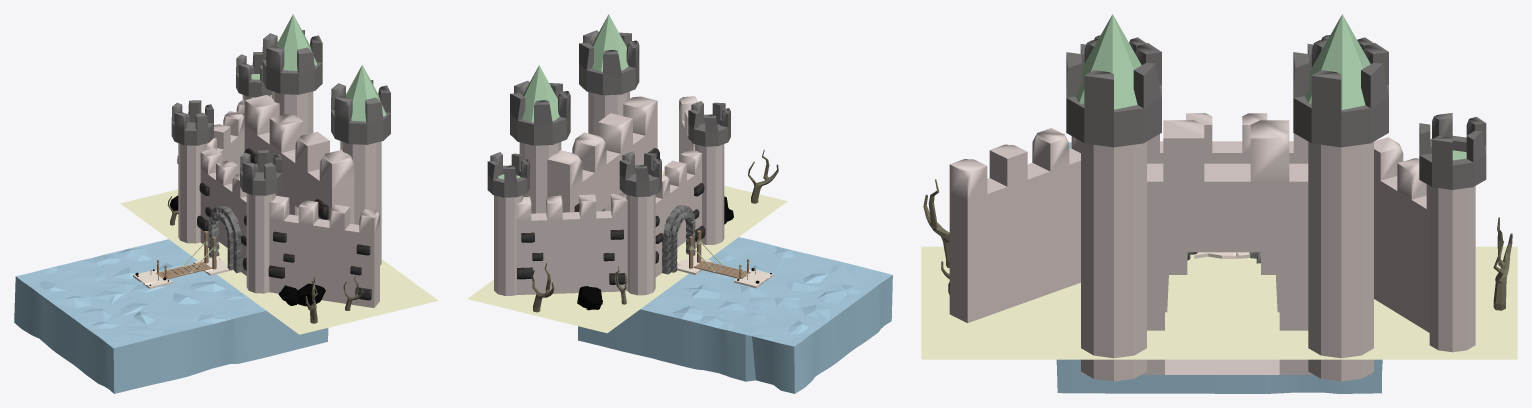
The model's file is castle exterior.fbx.
3 views of the same model, side by side, from view 1: azimuth 30°, elevation 25°; view 2: azimuth 150°, elevation 25°; view 3: azimuth 270°, elevation 25° (orthographic). The views are drawn at different scales.
Visible parts, largest first — view 1: pPlane2, pCube24, pCube26, pPlane1, pCylinder27, pCylinder23, pCylinder24, pCylinder28, pCube23, pCube25, pCylinder26, pCone2 (+5 smaller); view 2: pPlane2, pCube25, pCube26, pPlane1, pCylinder24, pCylinder28, pCylinder26, pCylinder23, pCylinder27, pCube23, pCone2, pCone1 (+7 smaller); view 3: pPlane1, pCube26, pCylinder28, pCylinder27, pCube24, pCylinder26, pCube25, pPlane2, pCube23, pCone2, pCone1, pCylinder30 (+1 smaller).
Part boxes in pixels (x1=…): pPlane2: x1=14, y1=239, x2=328, y2=393; pCube24: x1=268, y1=195, x2=379, y2=307; pCube26: x1=244, y1=95, x2=354, y2=223; pPlane1: x1=120, y1=189, x2=438, y2=334; pCylinder27: x1=331, y1=80, x2=390, y2=265; pCylinder23: x1=240, y1=150, x2=282, y2=293; pCylinder24: x1=171, y1=100, x2=213, y2=243; pCylinder28: x1=262, y1=30, x2=322, y2=215; pCube23: x1=197, y1=148, x2=246, y2=275; pCube25: x1=207, y1=99, x2=244, y2=173; pCylinder26: x1=236, y1=52, x2=271, y2=101; pCone2: x1=345, y1=65, x2=385, y2=121; pPlane2: x1=578, y1=237, x2=892, y2=393; pCube25: x1=516, y1=193, x2=627, y2=294; pCube26: x1=547, y1=96, x2=659, y2=212; pPlane1: x1=467, y1=170, x2=787, y2=333; pCylinder24: x1=619, y1=151, x2=661, y2=295; pCylinder28: x1=510, y1=80, x2=570, y2=213; pCylinder26: x1=487, y1=152, x2=529, y2=295; pCylinder23: x1=688, y1=101, x2=730, y2=244; pCylinder27: x1=579, y1=30, x2=639, y2=211; pCube23: x1=655, y1=149, x2=705, y2=277; pCone2: x1=592, y1=14, x2=628, y2=71; pCone1: x1=522, y1=65, x2=559, y2=122; pPlane1: x1=921, y1=246, x2=1517, y2=359; pCube26: x1=1082, y1=120, x2=1371, y2=374; pCylinder28: x1=1293, y1=39, x2=1388, y2=381; pCylinder27: x1=1066, y1=39, x2=1161, y2=381; pCube24: x1=948, y1=128, x2=1080, y2=323; pCylinder26: x1=1419, y1=113, x2=1486, y2=352; pCube25: x1=1374, y1=137, x2=1429, y2=332; pPlane2: x1=1056, y1=142, x2=1382, y2=393; pCube23: x1=1147, y1=113, x2=1308, y2=274; pCone2: x1=1075, y1=14, x2=1141, y2=109; pCone1: x1=1305, y1=14, x2=1370, y2=109; pCylinder30: x1=1493, y1=217, x2=1512, y2=310.
Bounding box in the file's own units: 335 × 276 × 355.
